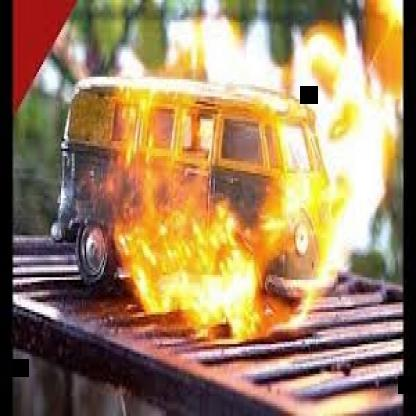fire: (61, 69, 315, 294)
